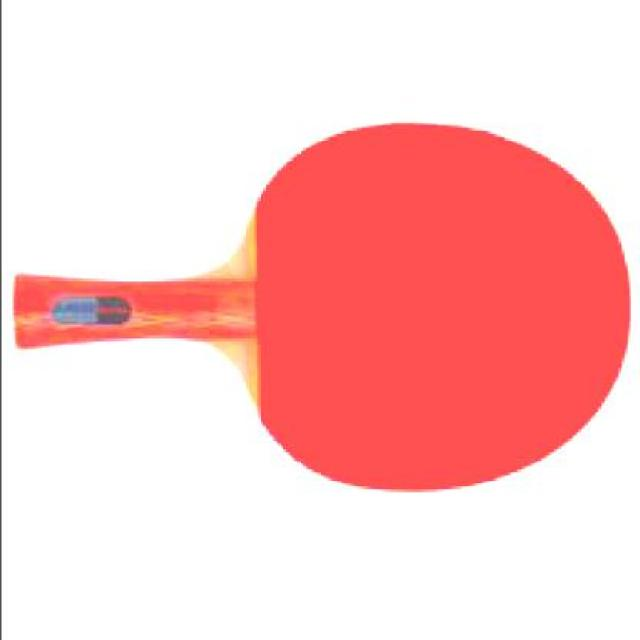table_tennis_racket: (6, 125, 634, 495)
